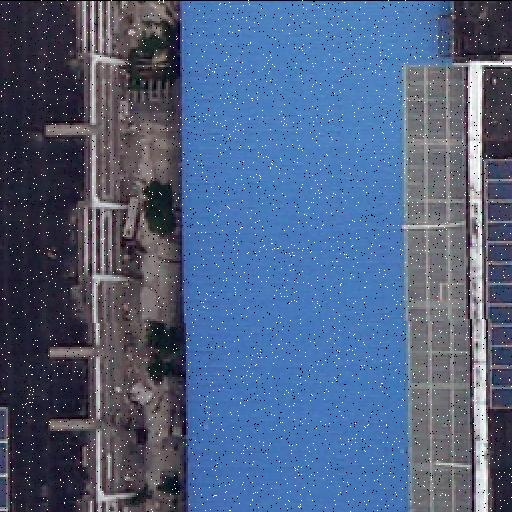solar-panel: (481, 159, 511, 409), (0, 408, 8, 512)
